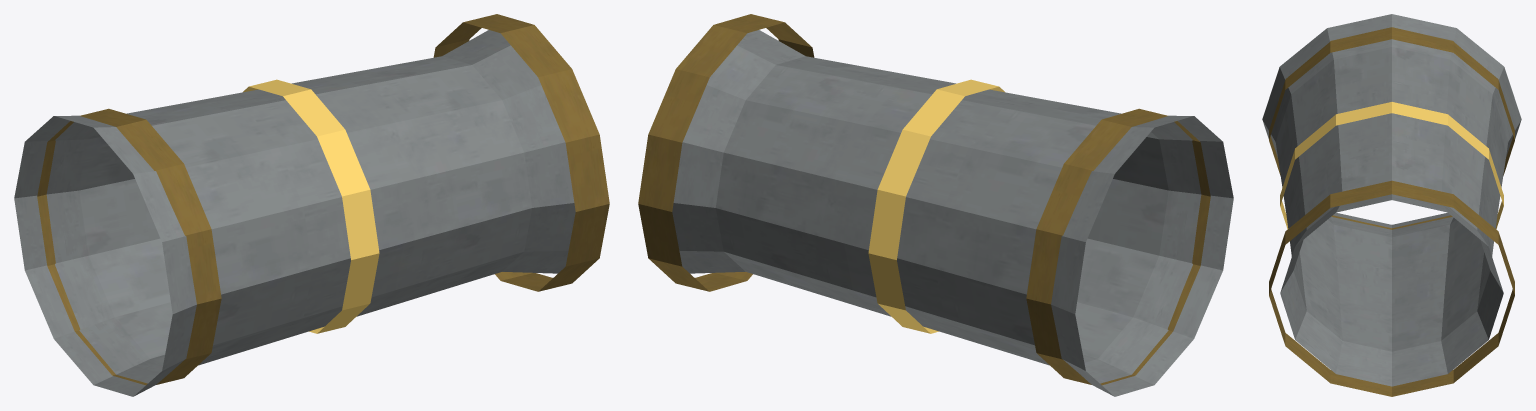
The model's file is eq_past_2_arm.glb.
The picture shows the model from 3 angles, left to right: view 1: azimuth 30°, elevation 25°; view 2: azimuth 150°, elevation 25°; view 3: azimuth 270°, elevation 25°; orthographic projection. The views are drawn at different scales.
Parts seen in each view (by area): view 1: eq_past_2_arm; view 2: eq_past_2_arm; view 3: eq_past_2_arm.
Boxes of the visible parts, bbox=[...] form: eq_past_2_arm: bbox=[14, 14, 609, 396]; eq_past_2_arm: bbox=[638, 14, 1233, 396]; eq_past_2_arm: bbox=[1262, 14, 1521, 396].
Size of the model in its own units: 0.2423 by 0.1352 by 0.1508.
3 materials, 2 textured.
